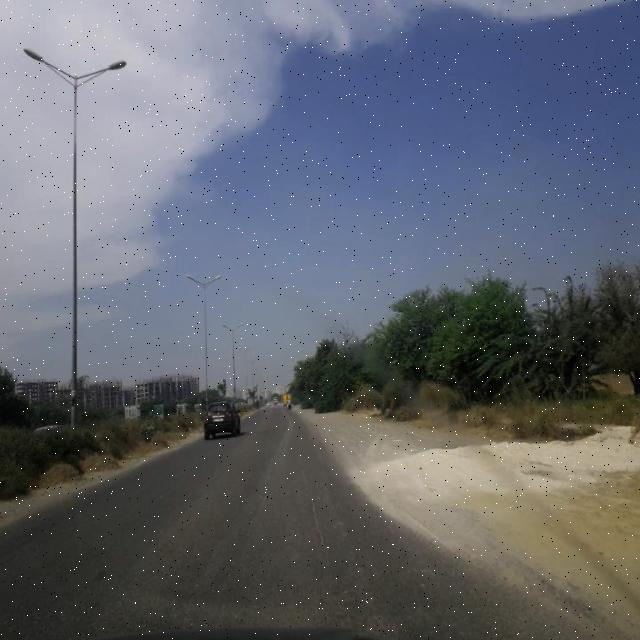D00: (297, 452, 332, 559)
